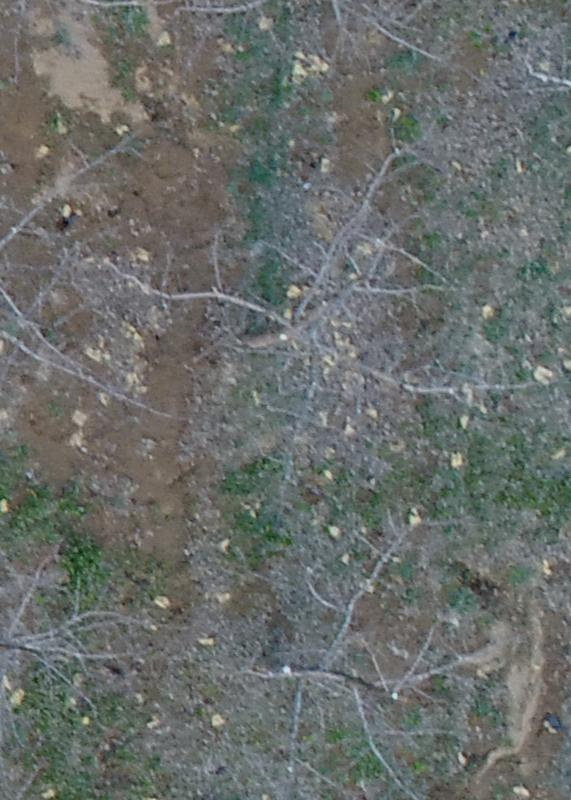apple: (128, 140, 543, 439), (223, 507, 491, 790), (10, 130, 161, 417), (10, 547, 144, 731)
